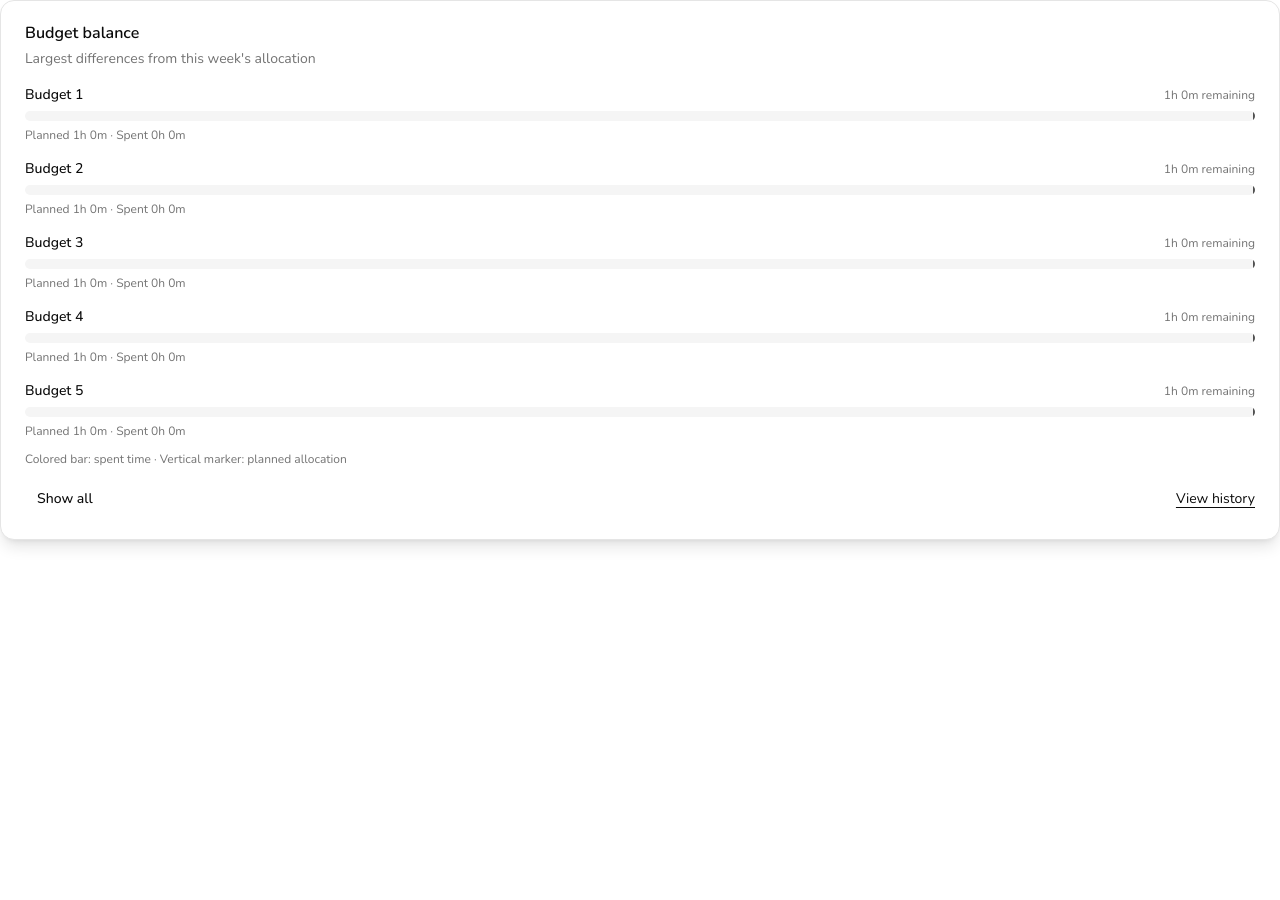
Scenario: Budget balance panel › lets the user expand the list and opens the selected item's current-week report
Expected: the link "Budget 6" is not shown
Click the button "Show all" at [65, 499], box 25,483 -> 105,515
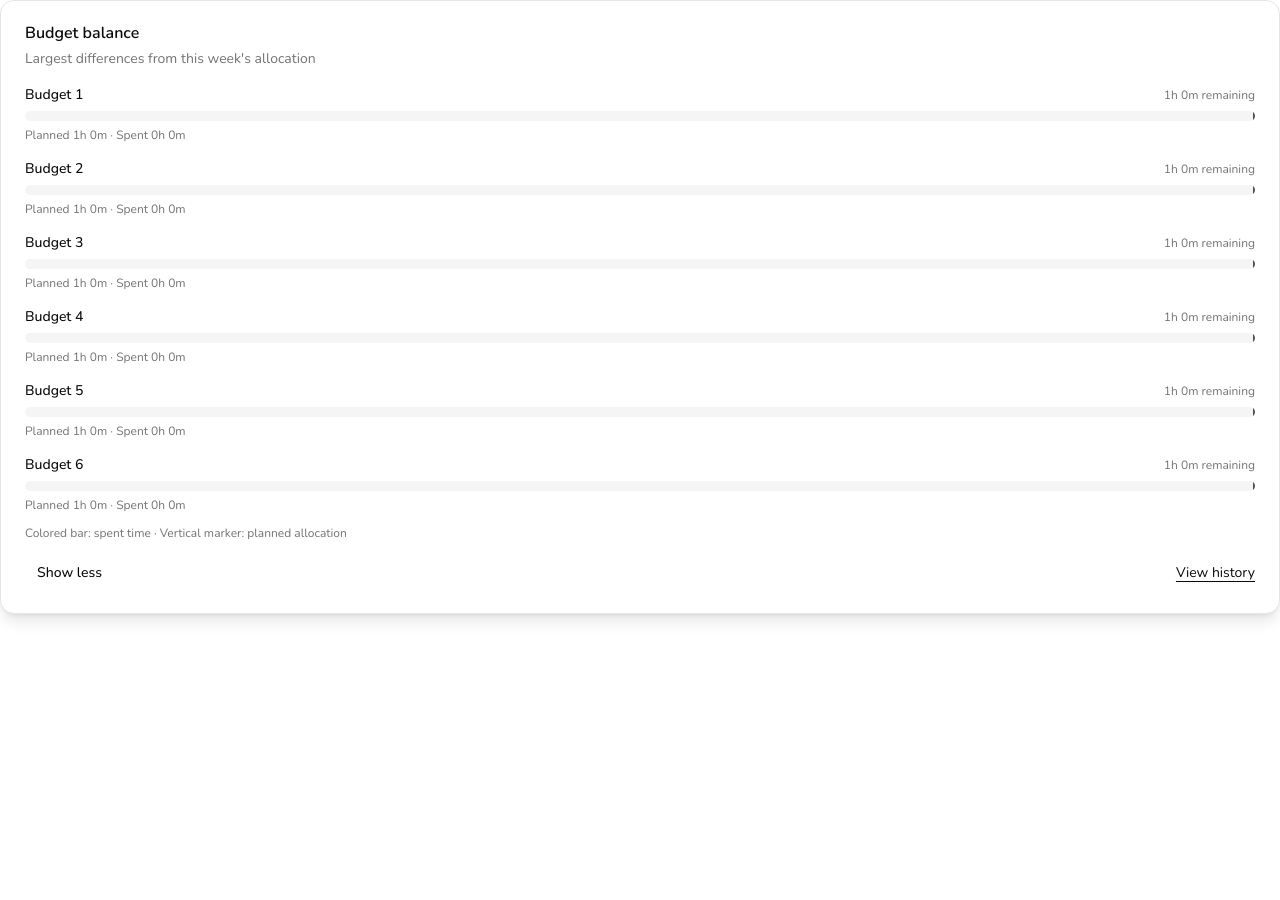
Click the button "Show less" at [70, 573], box 25,557 -> 114,589
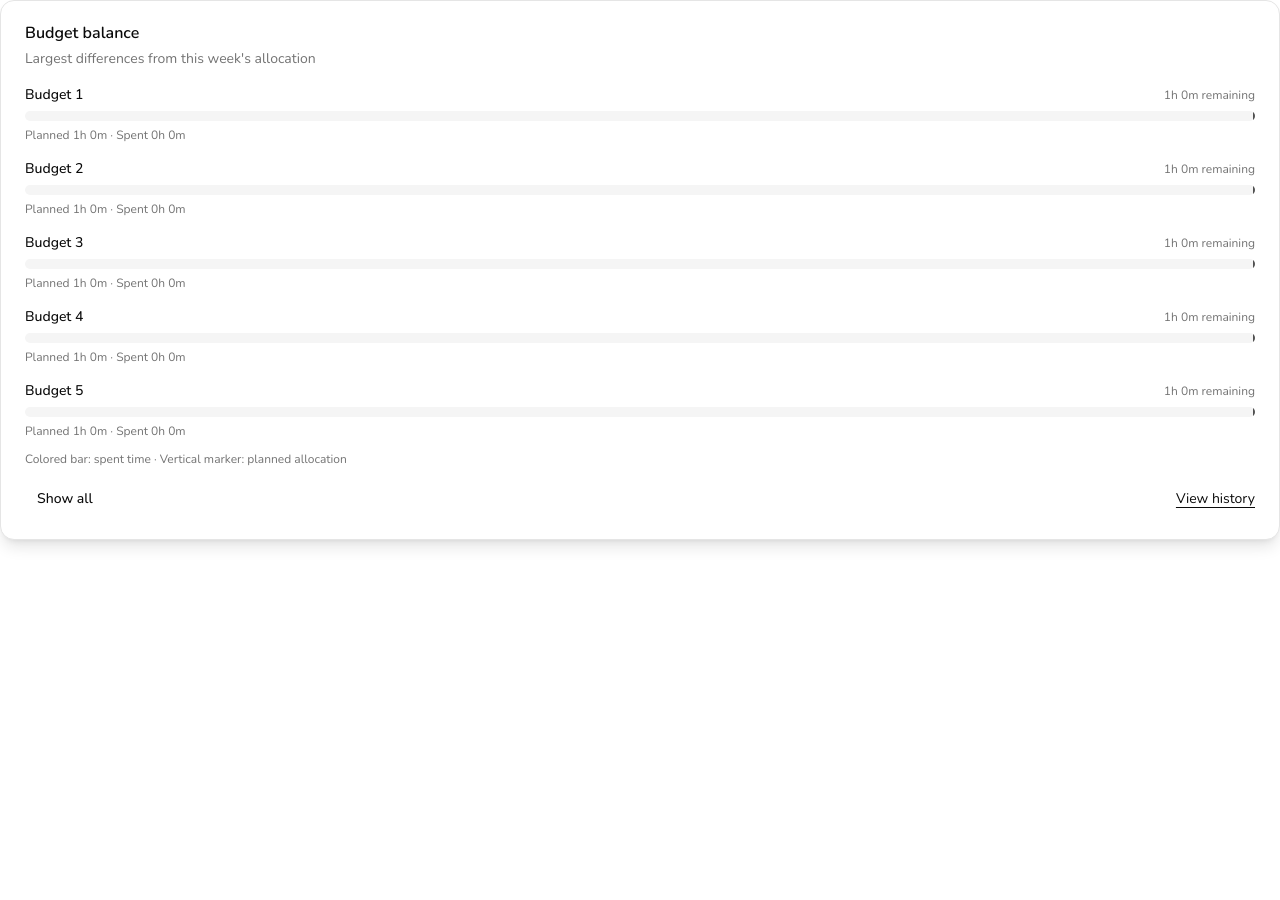
Expected: the link "Budget 6" is gone
